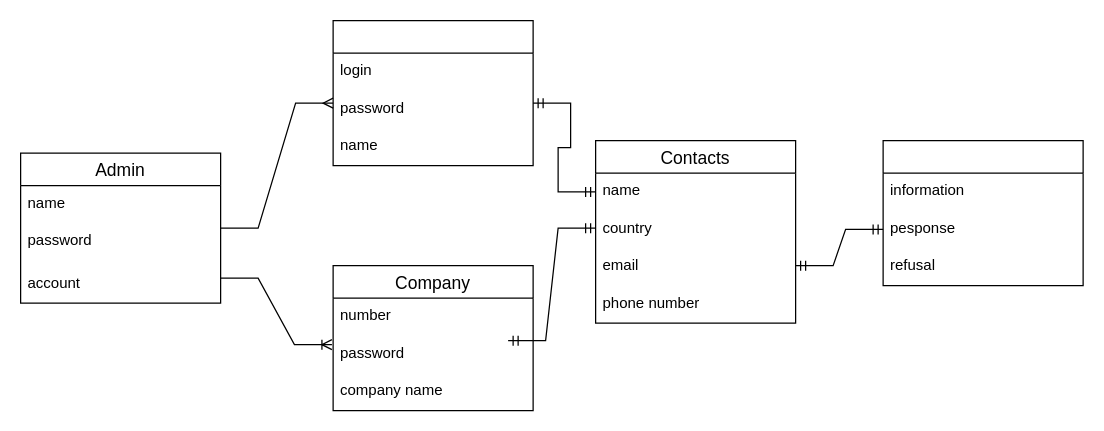
Image size: 1104x431. Some labels were removed from this diagram. The box of each missing label's shape, as (x1, y1, x2, y2) in pixels:
User: (332, 19, 533, 166)
Vacancies: (882, 139, 1083, 286)
